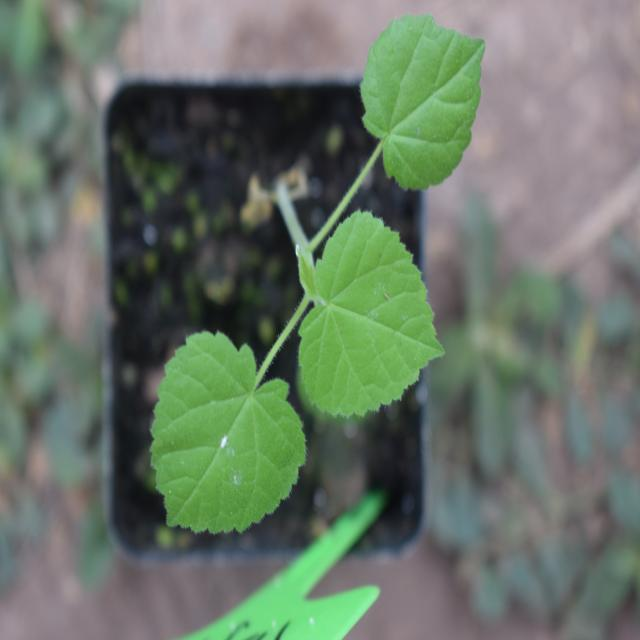abutilon theophrasti: (136, 19, 483, 537)
